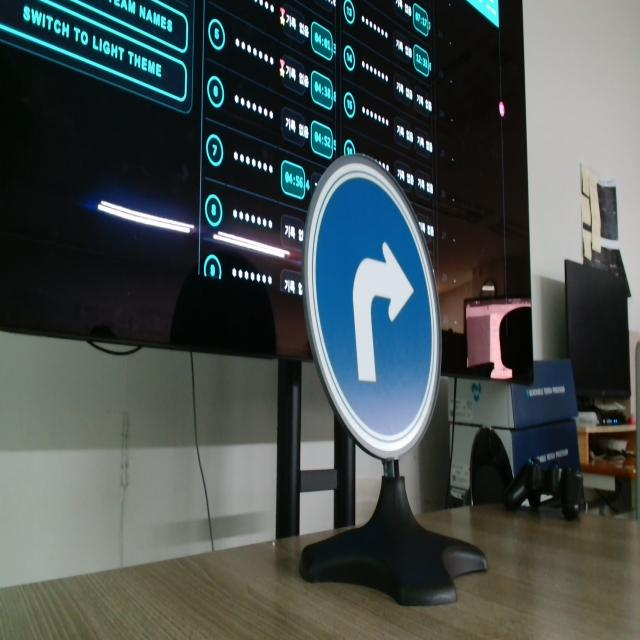right_dierection: (297, 150, 445, 454)
